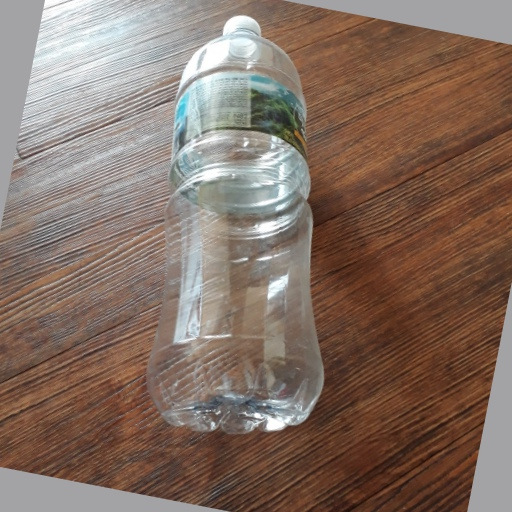Plastic_0: (152, 14, 325, 438)
